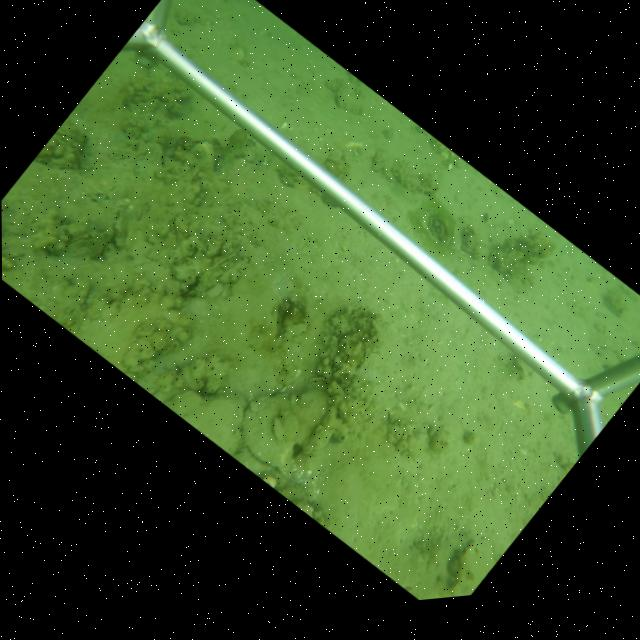Oyster-Closed: (175, 247, 241, 301), (64, 227, 114, 259), (303, 426, 335, 457)
Oyster-Indeterminate: (241, 390, 329, 472), (165, 394, 250, 461), (333, 81, 364, 116)
